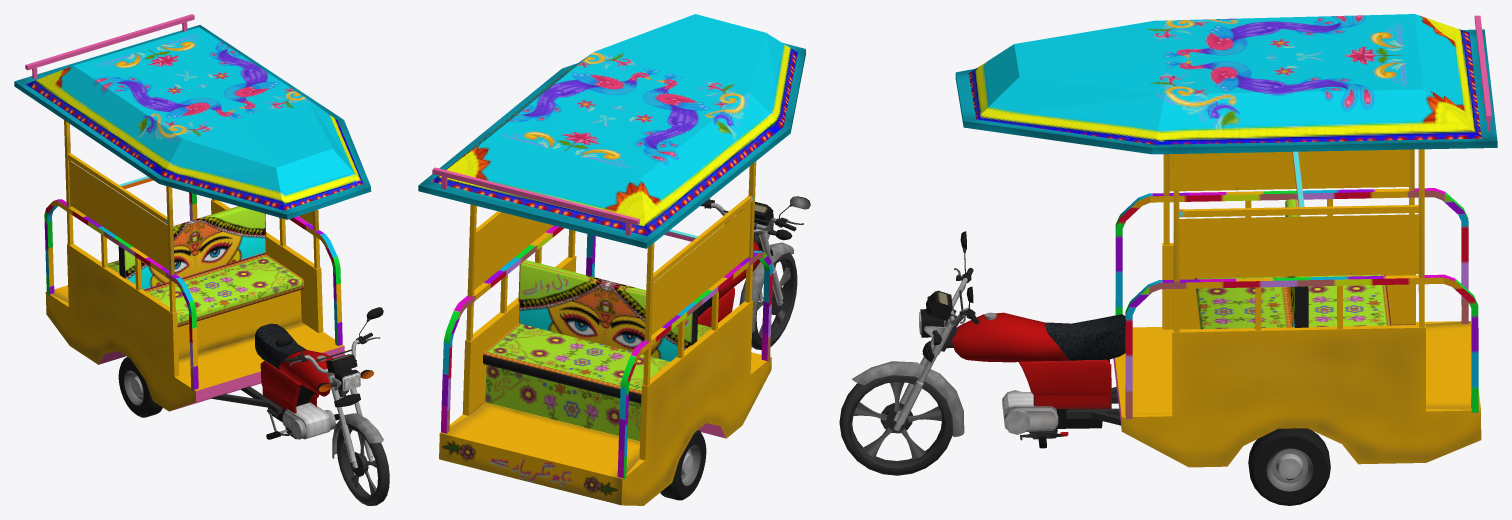
Rendered from Rickshaw cha cha.glb.
3 renders of one model, left to right at view 1: azimuth 30°, elevation 25°; view 2: azimuth 150°, elevation 25°; view 3: azimuth 270°, elevation 25°, orthographic. The views are drawn at different scales.
Parts seen in each view (by area): view 1: model_0; view 2: model_0; view 3: model_0.
Part boxes in pixels (x1,y1,x2,y2): model_0: [14, 14, 389, 505]; model_0: [418, 14, 810, 505]; model_0: [839, 14, 1497, 505].
Size of the model in its own units: 2.35 by 3.56 by 5.15.
Materials: 1 (1 with a texture image).
